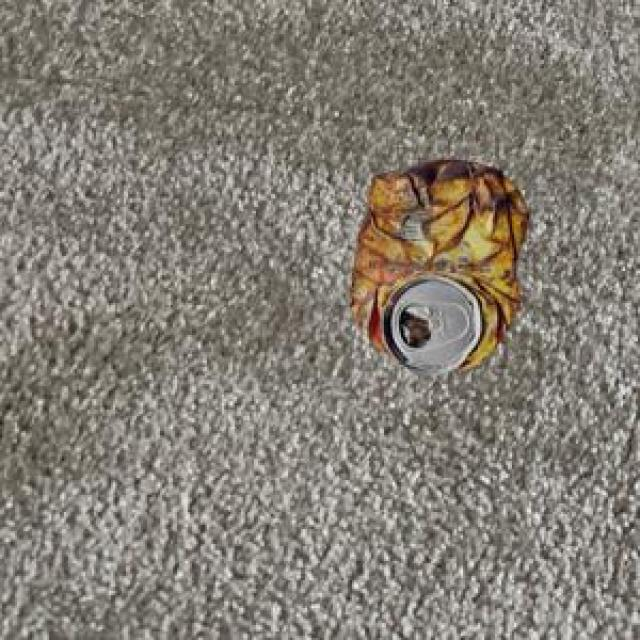Can: (347, 157, 526, 372)
